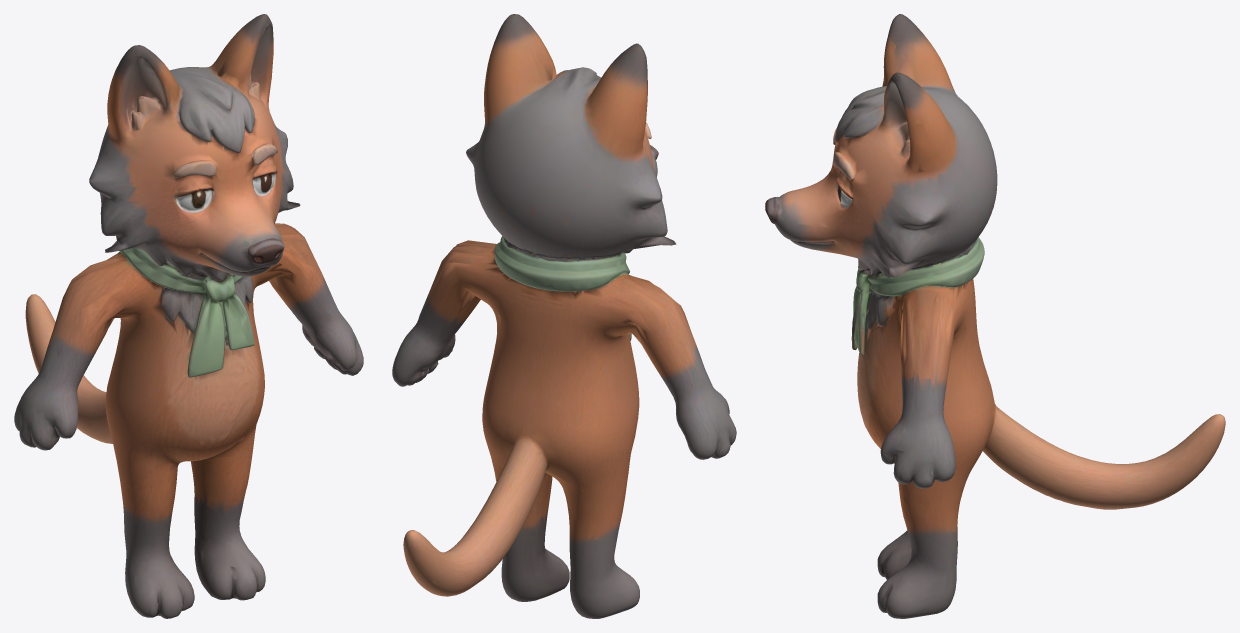
File: guara.glb
3 views of the same model, side by side, from view 1: azimuth 30°, elevation 25°; view 2: azimuth 150°, elevation 25°; view 3: azimuth 270°, elevation 25° (orthographic). The views are drawn at different scales.
Visible parts, largest first — view 1: guara; view 2: guara; view 3: guara.
Boxes of the visible parts, x1,y1,x2,y2 form: guara: (14, 14, 363, 618); guara: (392, 14, 736, 618); guara: (765, 14, 1225, 618).
Bounding box in the file's own units: 0.6103 × 1 × 0.7602.
Materials: 1 (1 with a texture image).
